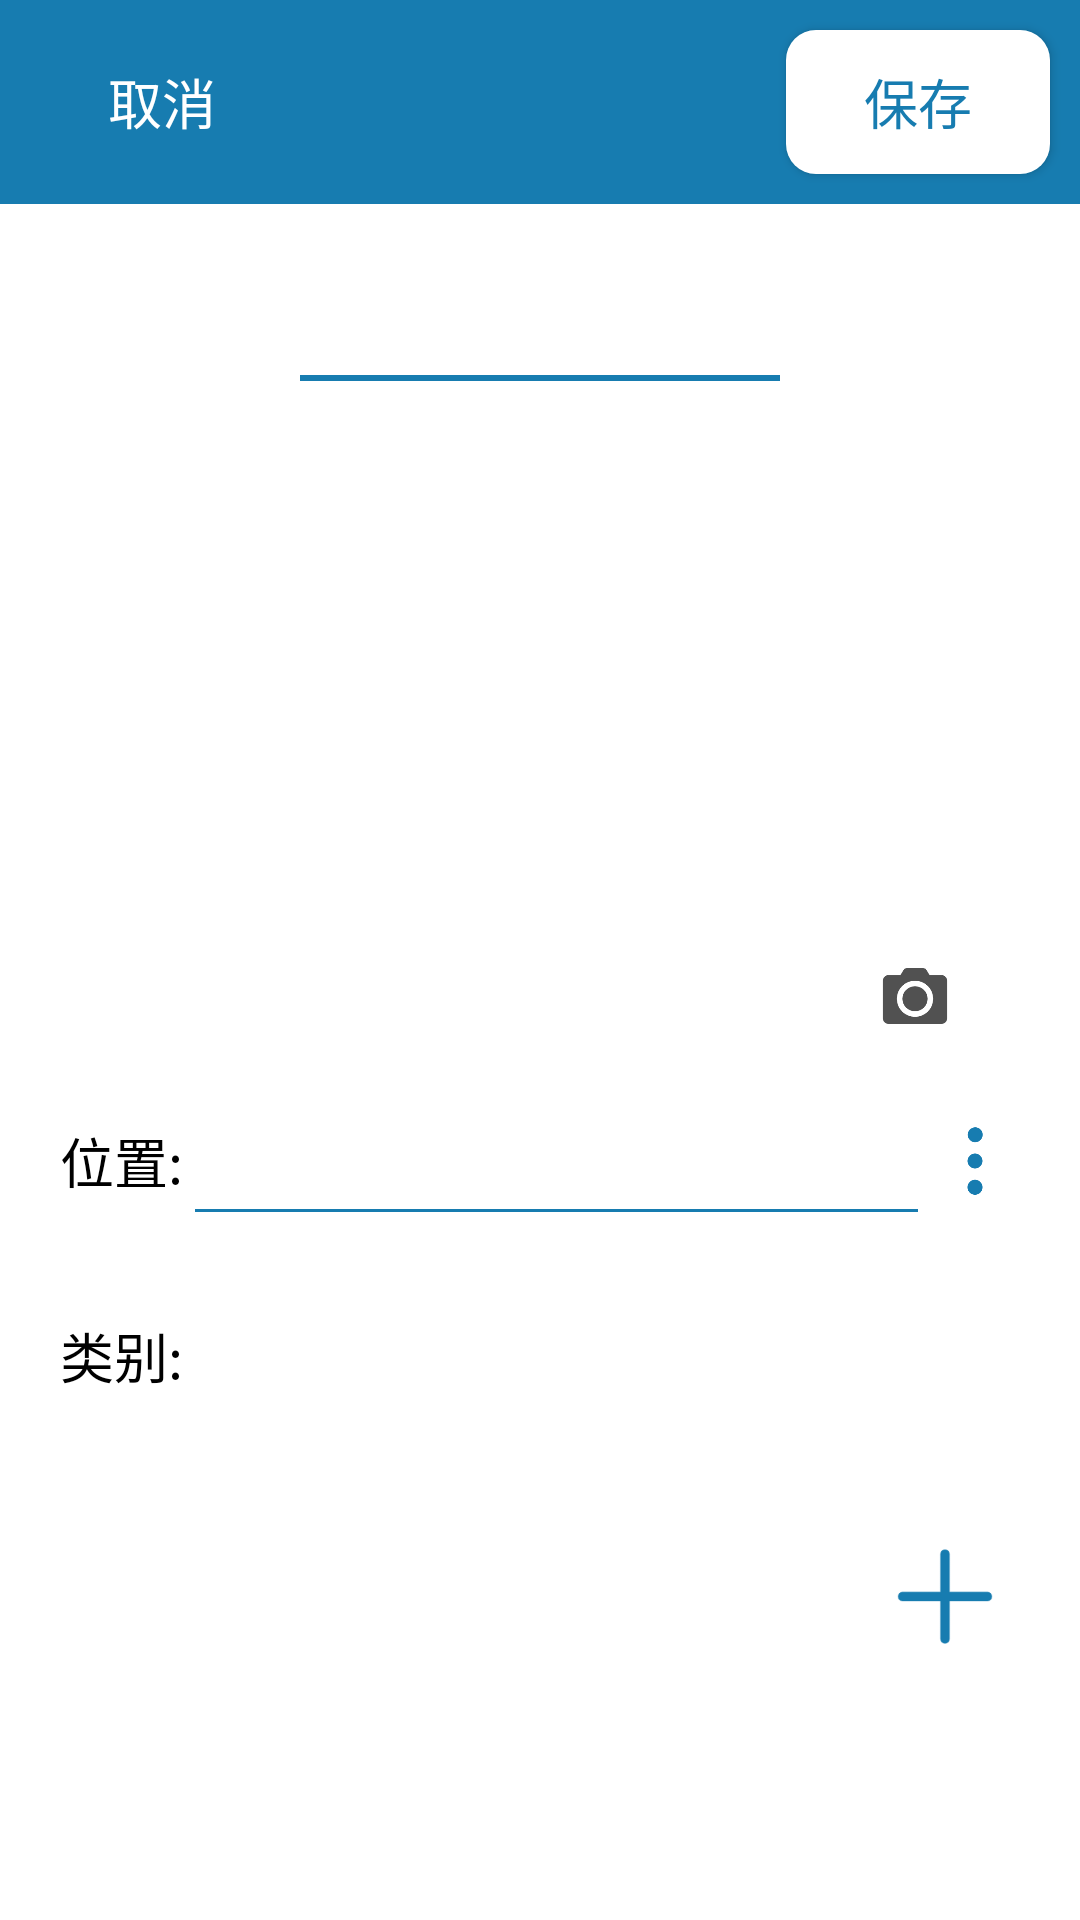

Named icons in this screenshot (1080×1920) and their bounding boxes, detection(x1, y1, x2, y2):
photo: detection(883, 968, 947, 1024)
